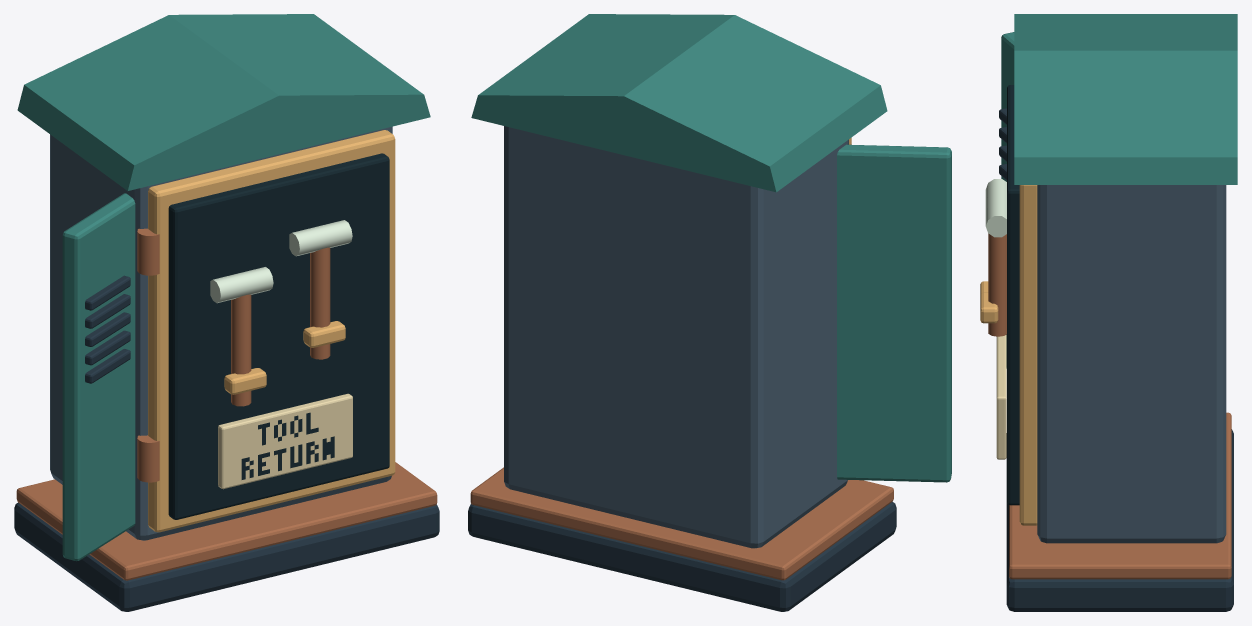
3 views of the same model, side by side, from view 1: azimuth 30°, elevation 25°; view 2: azimuth 150°, elevation 25°; view 3: azimuth 270°, elevation 25° (orthographic).
Parts seen in each view (by area): view 1: PR069 enamel and hardware; view 2: PR069 enamel and hardware; view 3: PR069 enamel and hardware.
Boxes of the visible parts, <box> form: PR069 enamel and hardware: <box>14,14,439,611</box>; PR069 enamel and hardware: <box>468,14,951,611</box>; PR069 enamel and hardware: <box>980,14,1237,611</box>.
Size of the model in its own units: 1 by 1.22 by 0.5877.
